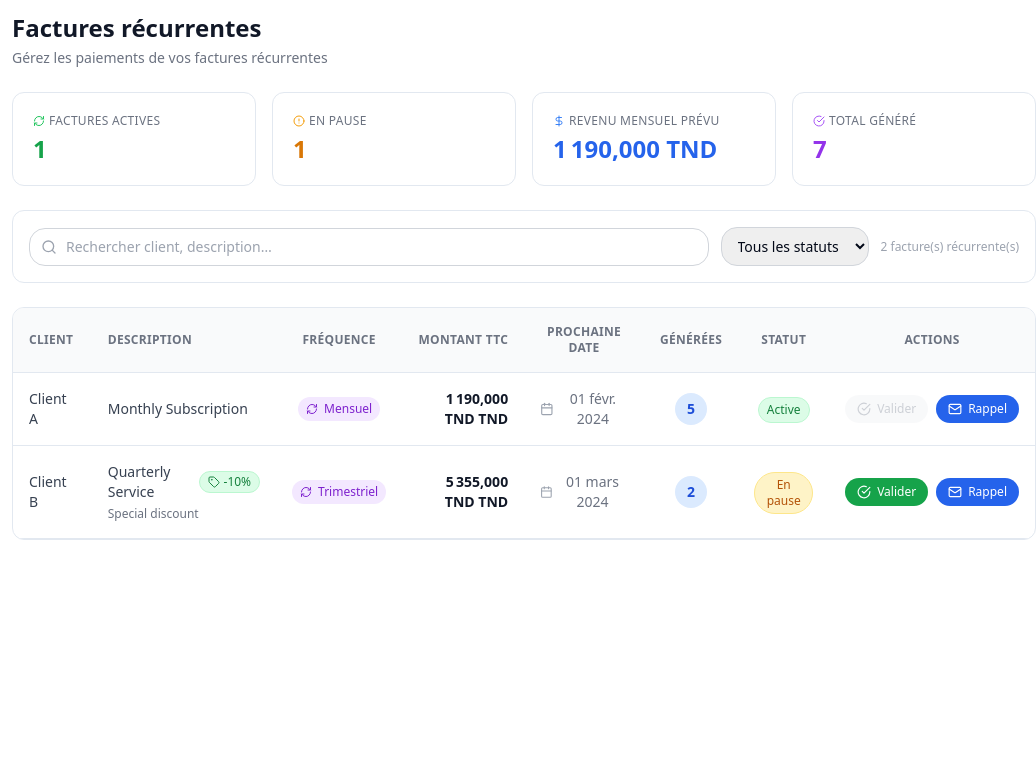
Test: RecurringInvoices › Status Filter › should filter invoices by status
Expected: the text "Monthly Subscription" is shown, [108, 399, 260, 419]
Step 1. Select "Active" in the dropdown → (794, 246), box [720, 227, 868, 266]
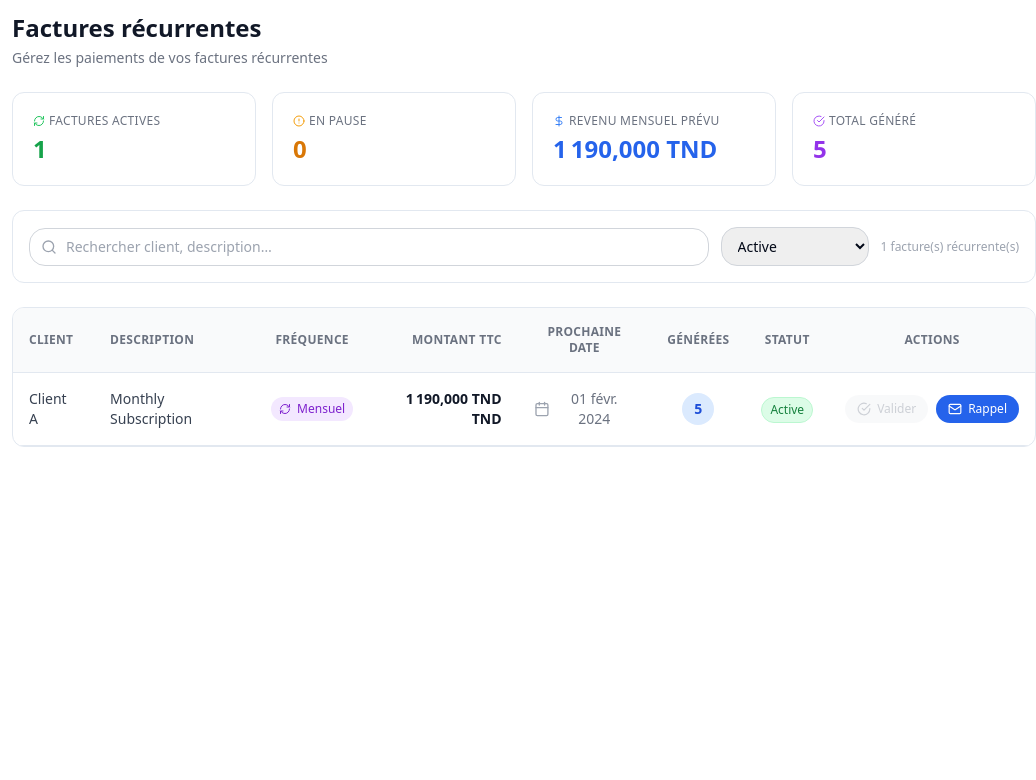
Expected: the text "Monthly Subscription" is shown, [110, 389, 192, 428]
Result: the text "Quarterly Service" is gone
